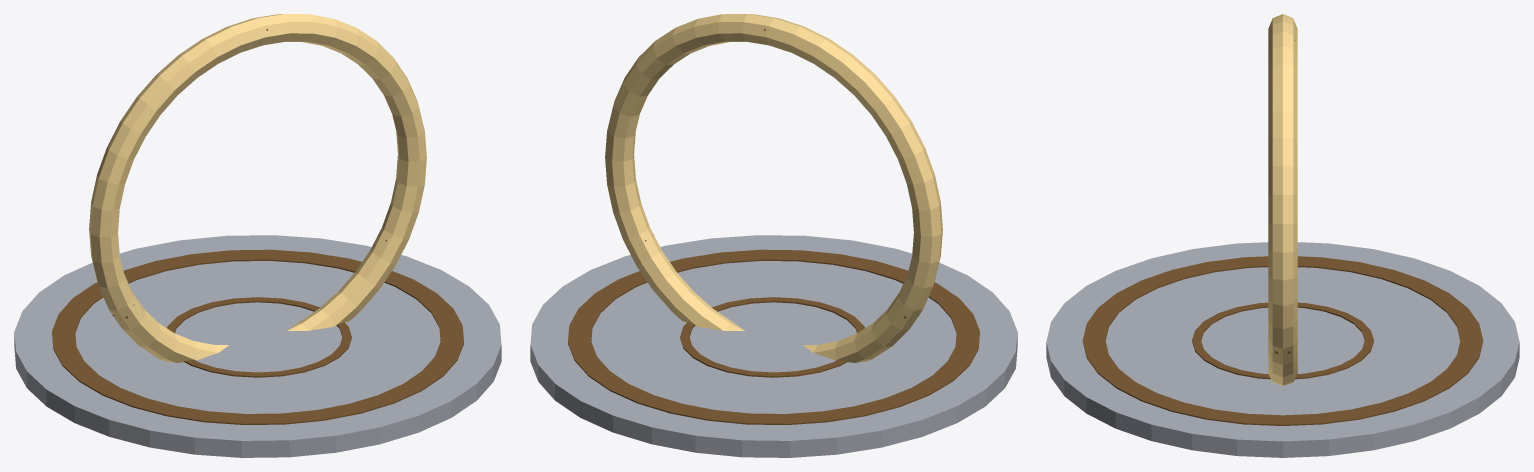
The model's file is ExitPortal.fbx.
The picture shows the model from 3 angles, left to right: view 1: azimuth 30°, elevation 25°; view 2: azimuth 150°, elevation 25°; view 3: azimuth 270°, elevation 25°; orthographic projection. The views are drawn at different scales.
Visible parts, largest first — view 1: ExitPortal; view 2: ExitPortal; view 3: ExitPortal.
Part boxes in pixels (bbox=[...]): ExitPortal: bbox=[14, 14, 501, 457]; ExitPortal: bbox=[530, 14, 1017, 457]; ExitPortal: bbox=[1046, 14, 1519, 457].
Size of the model in its own units: 5.2 by 4.12 by 5.2.
